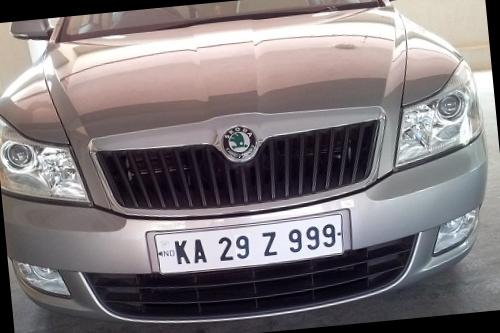plate: (146, 211, 360, 282)
